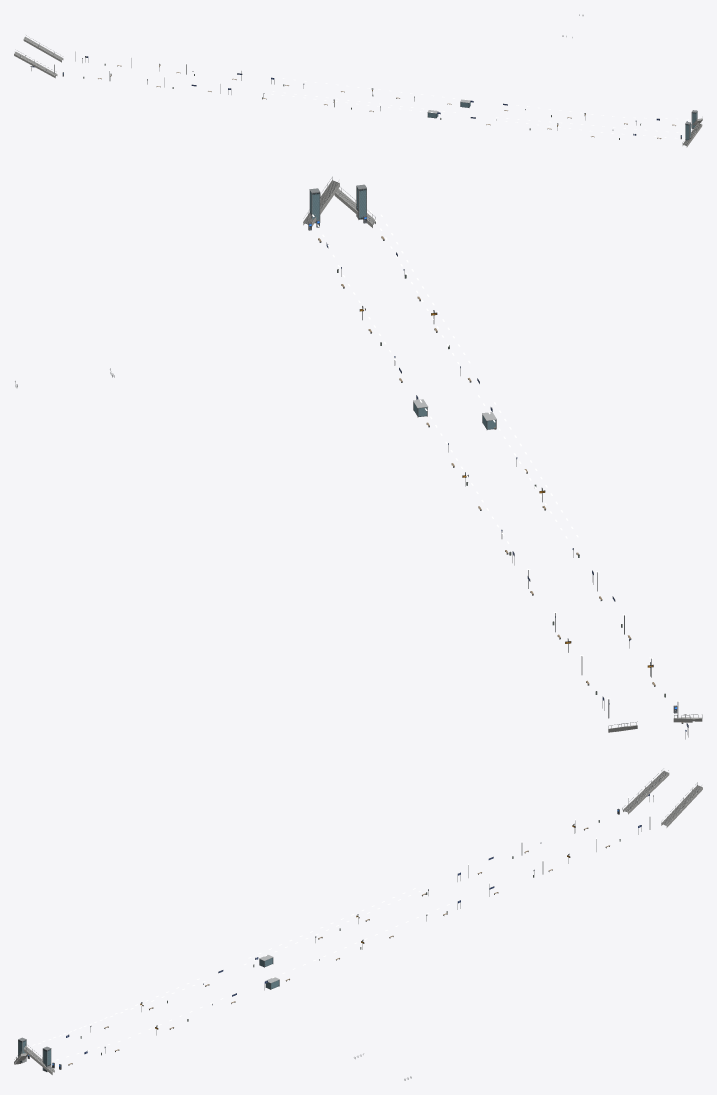
The model's file is stp_wiedikon.glb.
3 views of the same model, one above another, from view 1: azimuth 30°, elevation 25°; view 2: azimuth 150°, elevation 25°; view 3: azimuth 270°, elevation 25° (orthographic). The views are drawn at different scales.
Visible parts, largest first — view 1: solid, stlamps, stglass; view 2: solid; view 3: solid, stlamps.
Part boxes in pixels (x1,y1,x2,y2): solid: (14,14,702,147); stlamps: (53,50,688,138); stglass: (428,102,697,140); solid: (15,176,702,739); solid: (14,768,702,1080); stlamps: (28,796,650,1060).
Size of the model in its own units: 248 by 13.35 by 238.
Materials: 4 (3 with a texture image).
